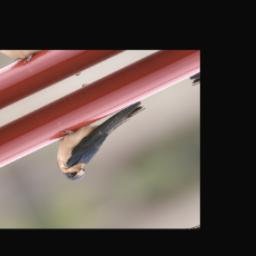Swallow: (42, 92, 164, 188)
